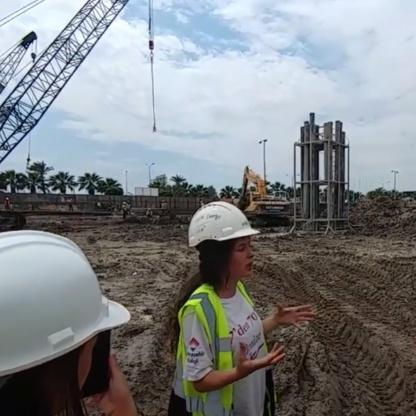helmet: (0, 224, 129, 413), (188, 202, 260, 282)
